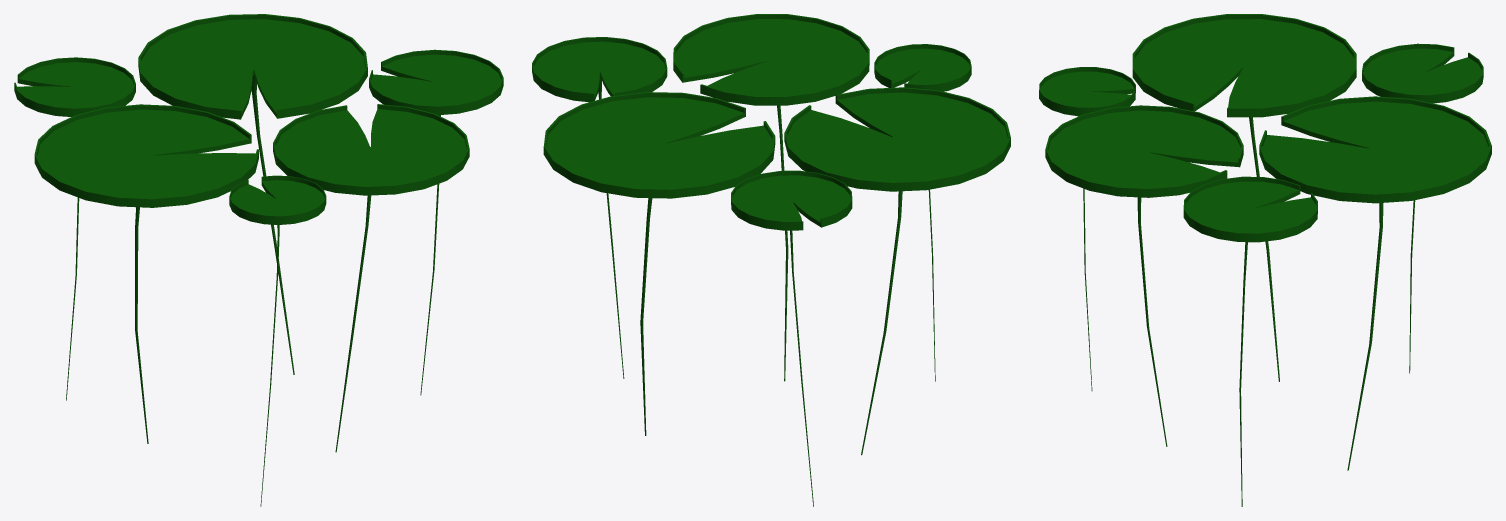
The model's file is Lily Pad Cluster 3.obj.
3 renders of one model, left to right at view 1: azimuth 30°, elevation 25°; view 2: azimuth 150°, elevation 25°; view 3: azimuth 270°, elevation 25°, orthographic.
Size of the model in its own units: 57.05 by 37.72 by 49.7.
